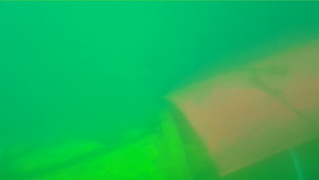leak: (156, 39, 319, 177)
pipe: (1, 109, 319, 180)
